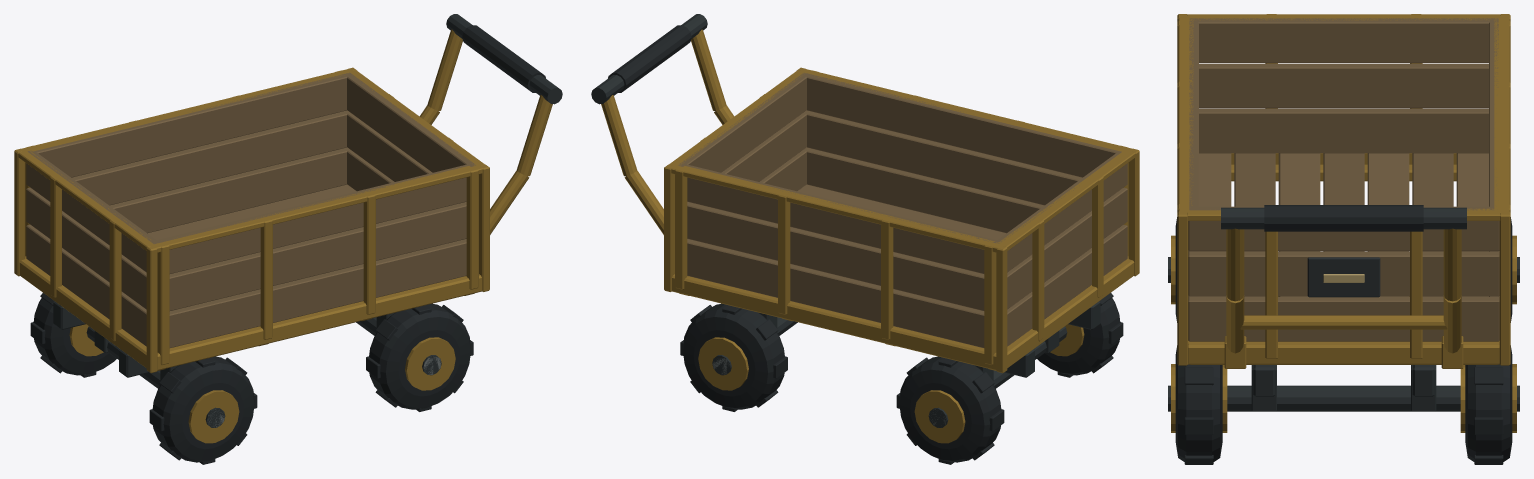
The model's file is SM_Cart_A.fbx.
3 renders of one model, left to right at view 1: azimuth 30°, elevation 25°; view 2: azimuth 150°, elevation 25°; view 3: azimuth 270°, elevation 25°, orthographic. The views are drawn at different scales.
Visible parts, largest first — view 1: SM_Cart_A; view 2: SM_Cart_A; view 3: SM_Cart_A.
Part boxes in pixels (<box>): SM_Cart_A: <box>14,14,562,464</box>; SM_Cart_A: <box>591,14,1139,464</box>; SM_Cart_A: <box>1168,14,1519,464</box>.
Size of what is drawn, in the model's own units: 97.2 by 168 by 103.
